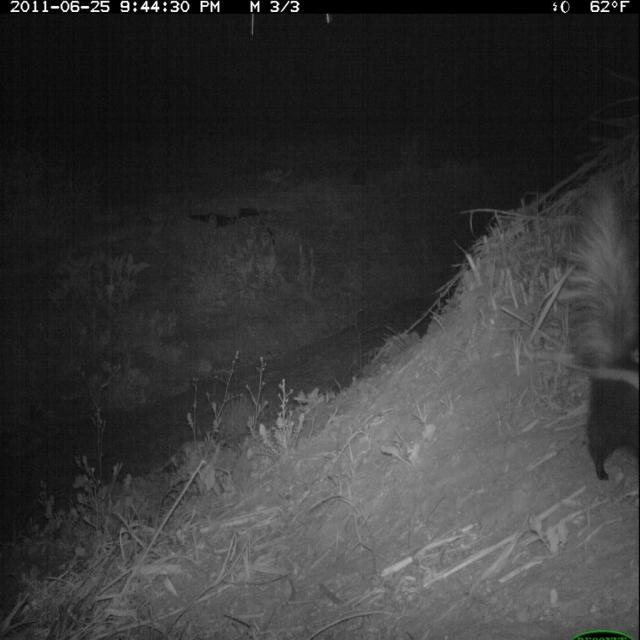skunk: (559, 165, 640, 489)
